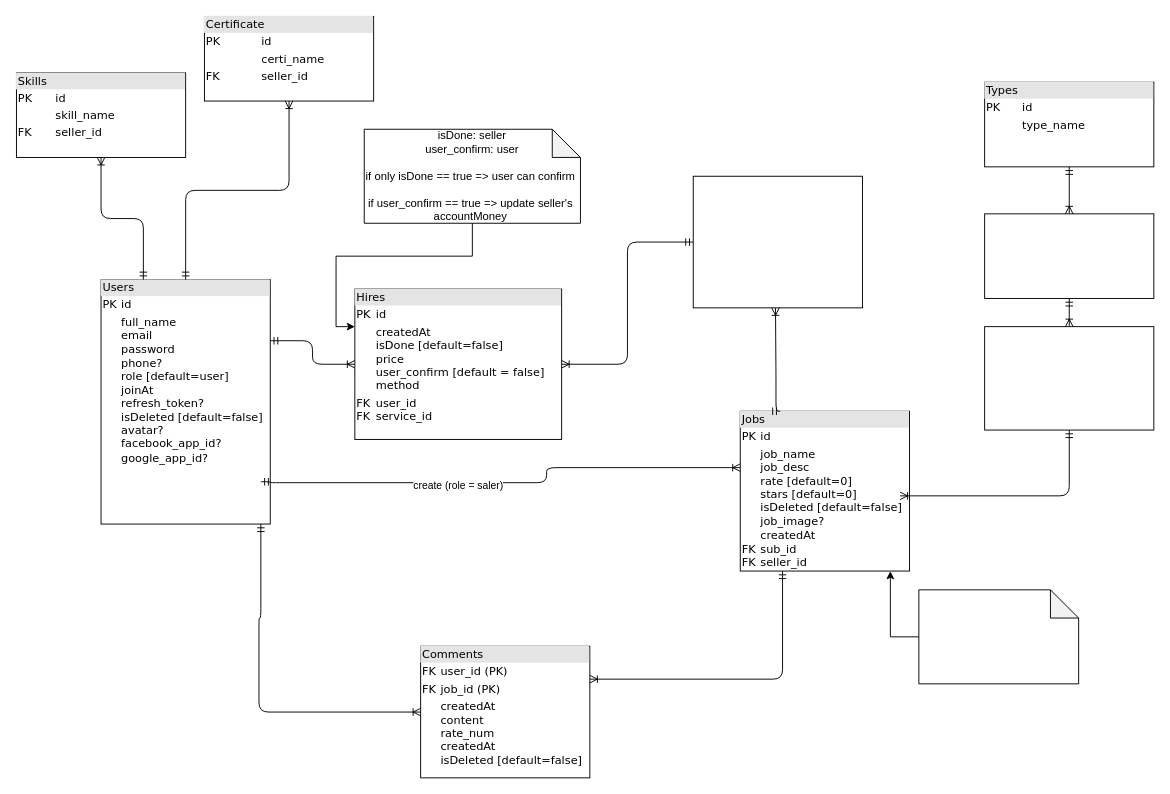
The diagram is 1170 pixels wide and 794 high, and some of its shapes have lost their labels. The centre of each missing label's shape, as x and y in pixels:
"ChildTypes PK id FK child_type_name type_id" belongs at point 1069,255.
"rate: (total count of rate_num) stars: (total rate_num) / rate" belongs at point 998,636.
"Services PK id FK price desc benefit delivery_date job_id" belongs at point 777,241.
"Subs PK id FK sub_name type_id" belongs at point 1069,378.
